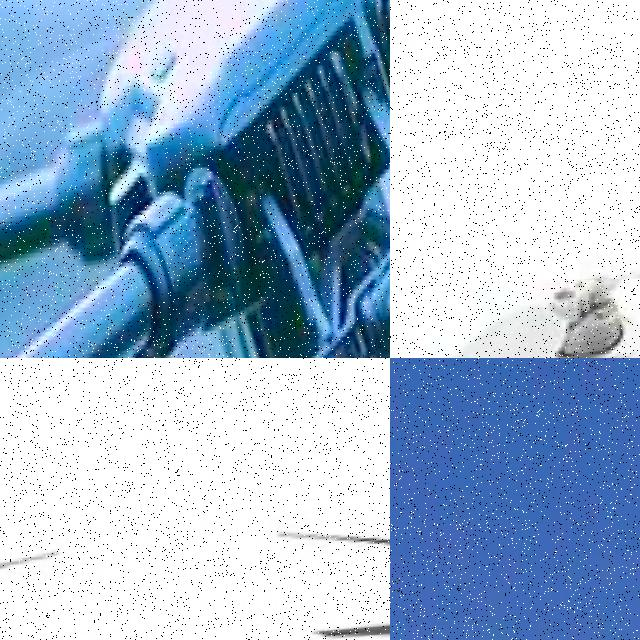drone: (0, 0, 390, 358), (0, 504, 390, 640), (390, 272, 640, 358)
